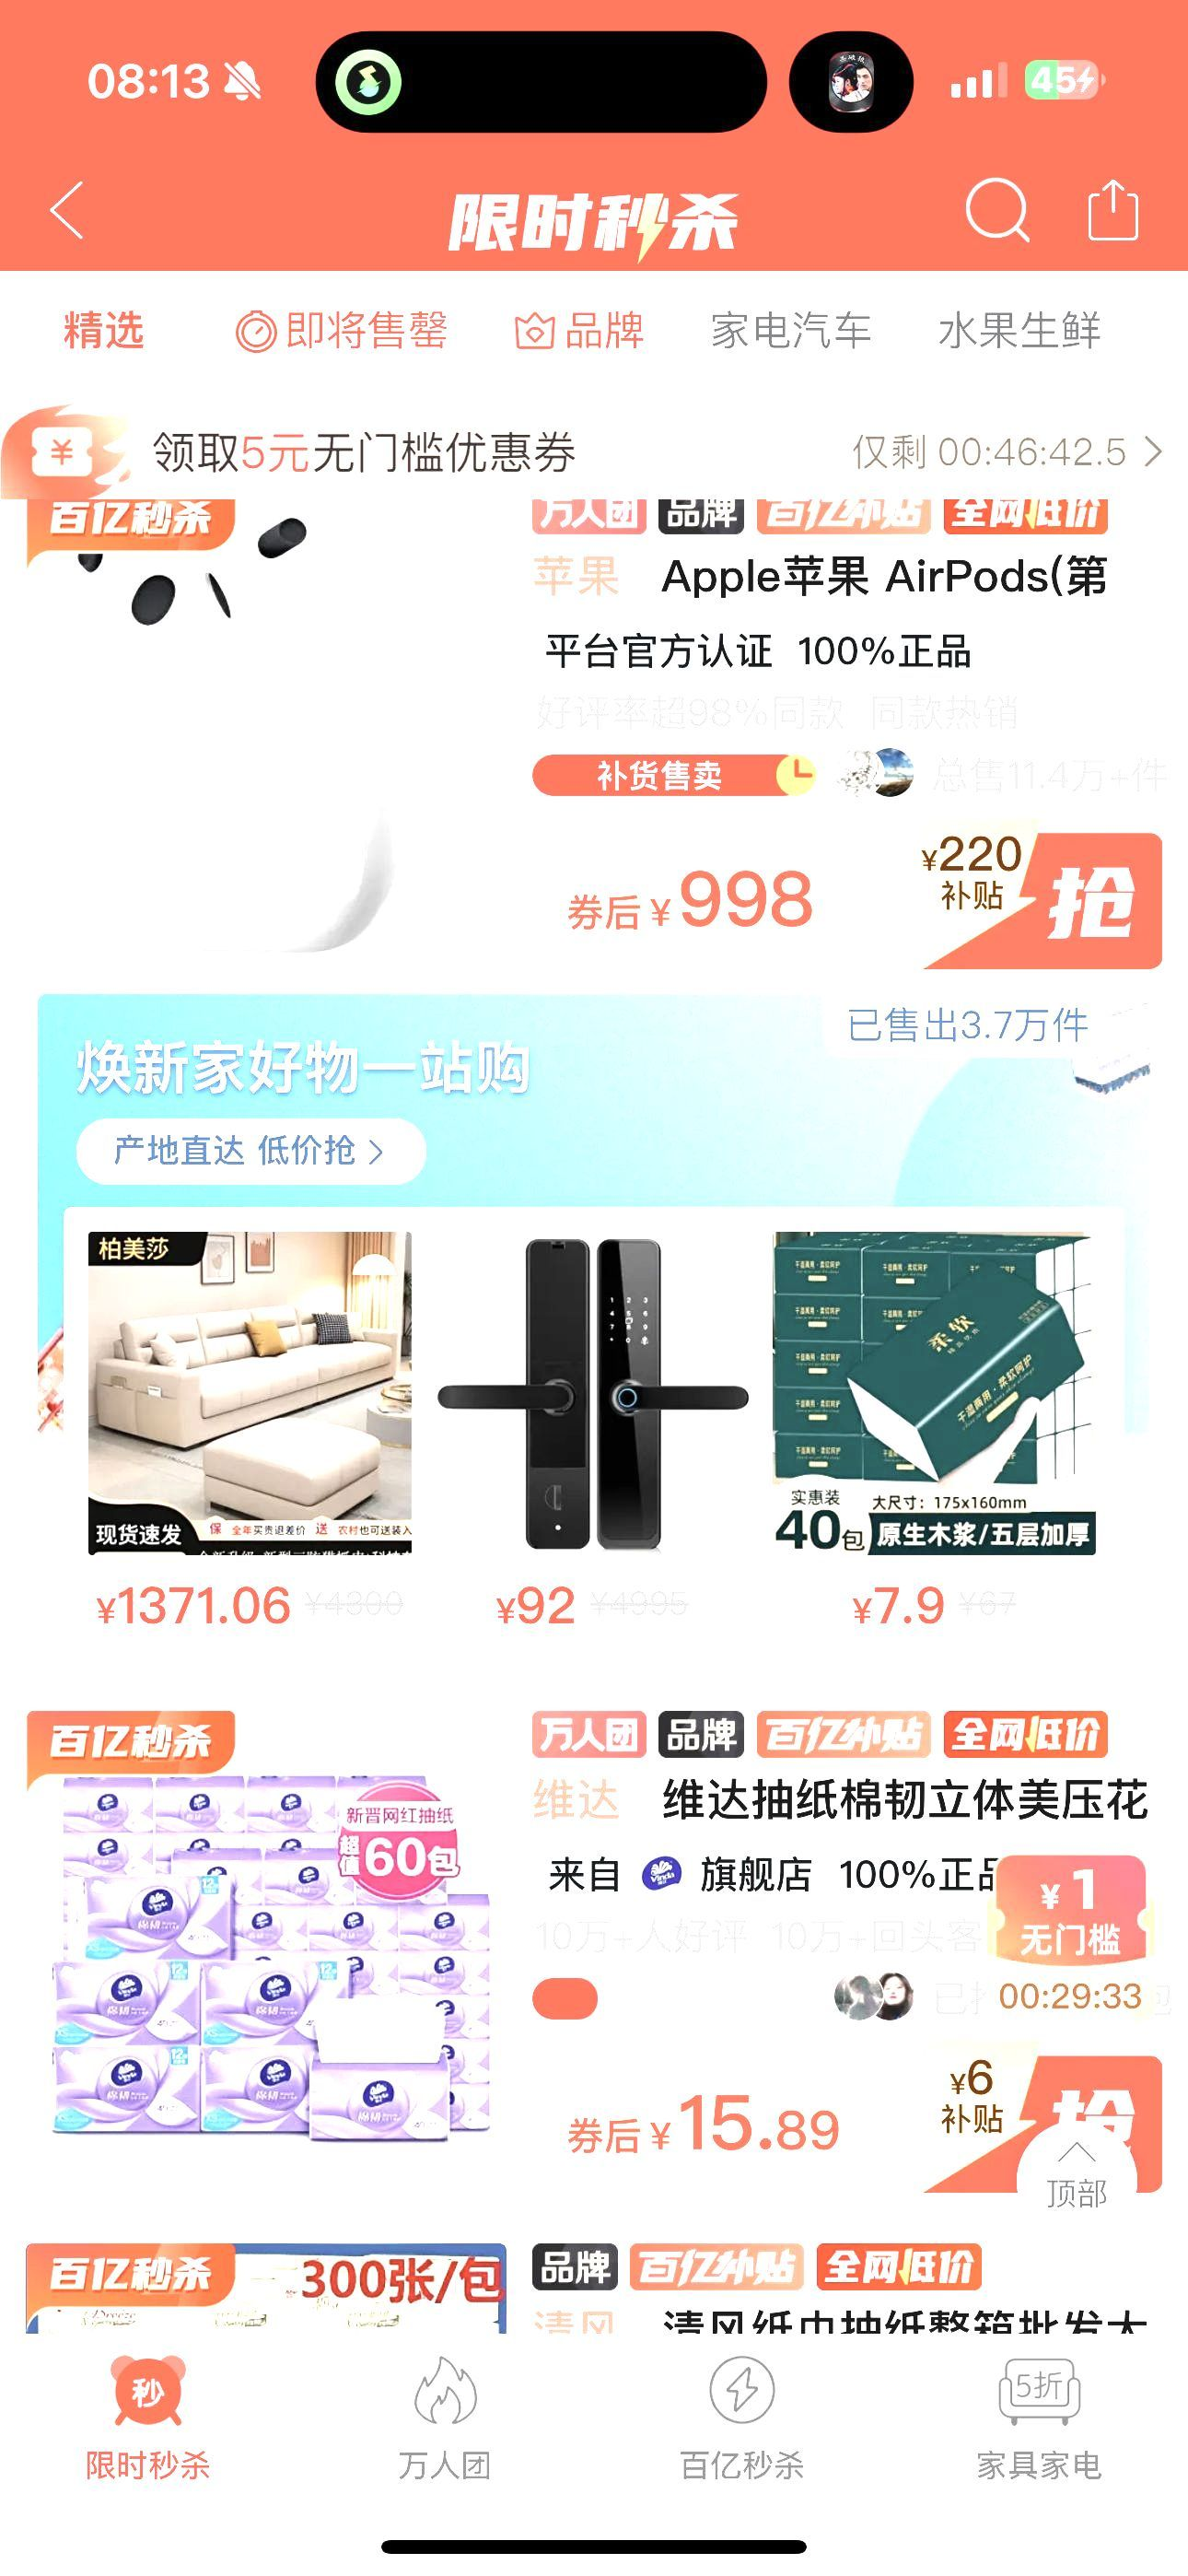banner: (7, 992, 1178, 1699)
item: (7, 1707, 1188, 2219), (18, 480, 1185, 979)
op_bar: (7, 141, 1188, 274)
